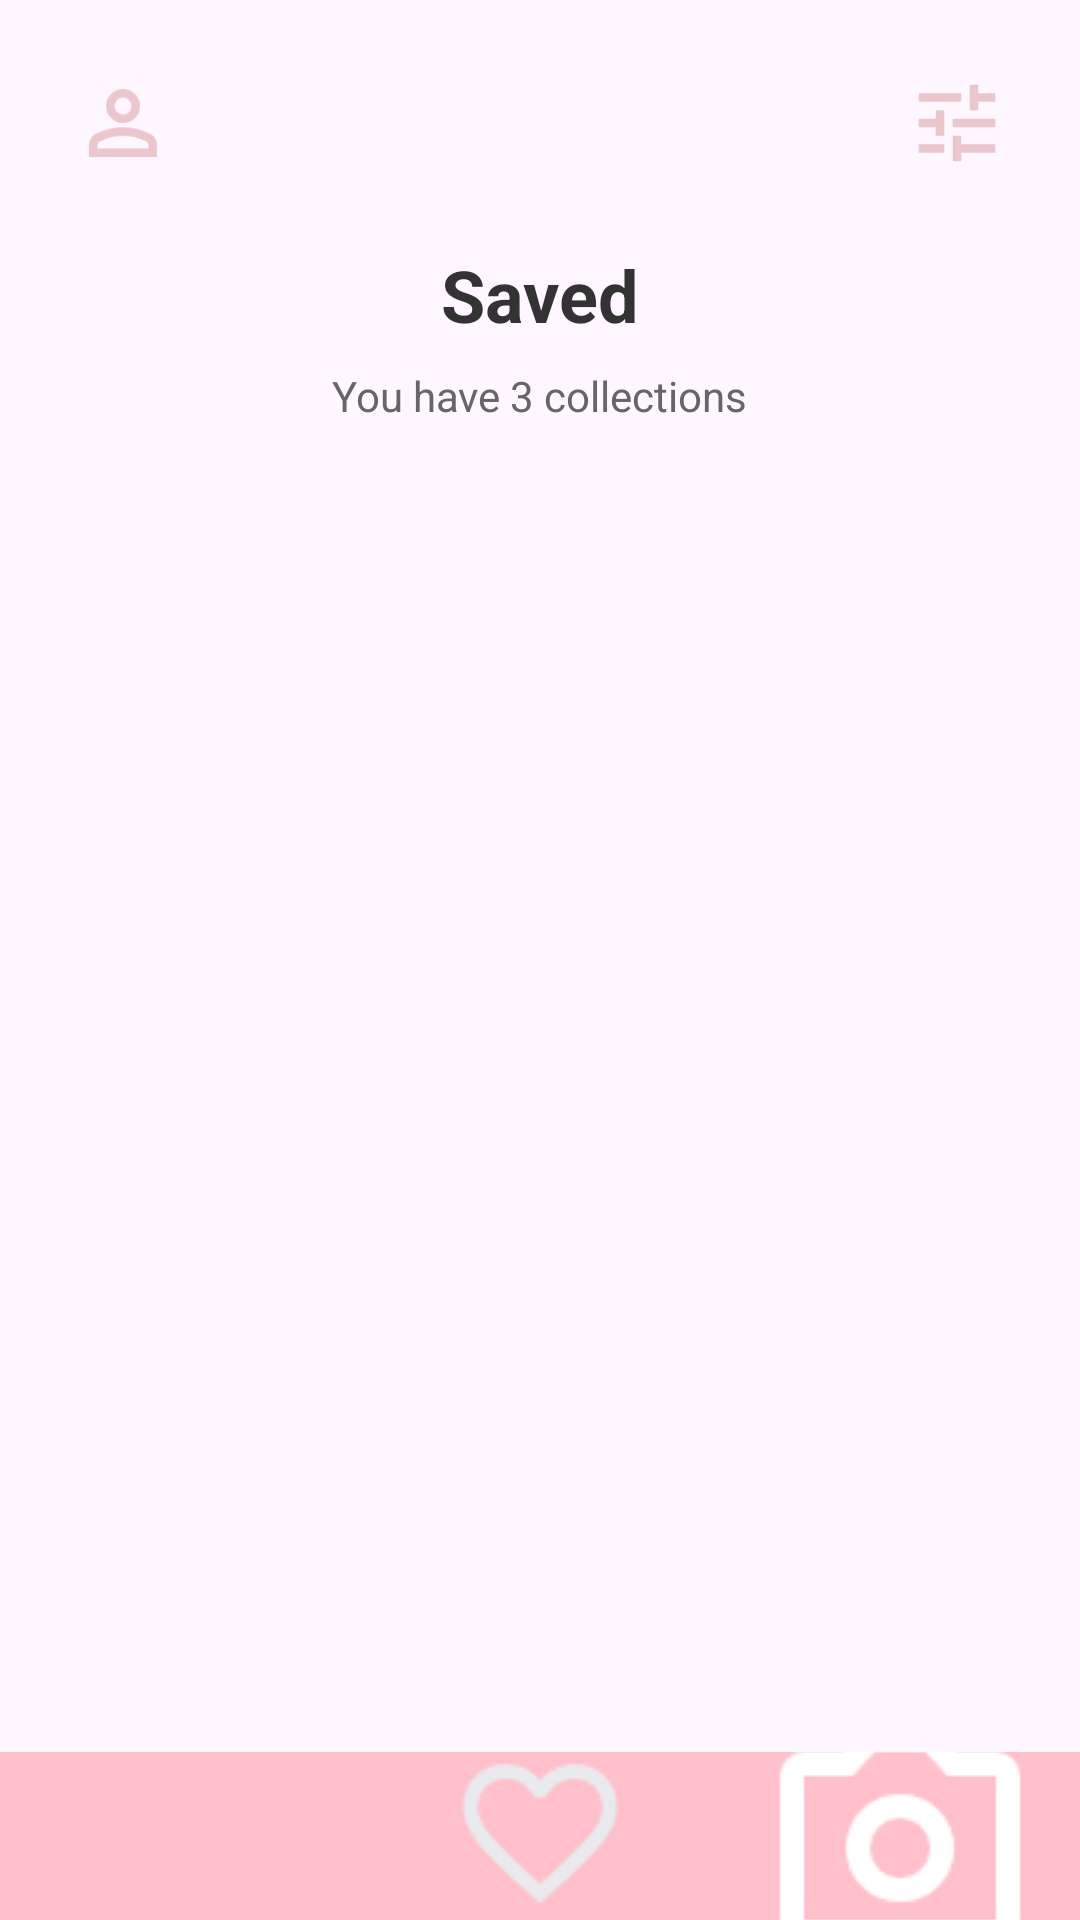

Screen size 1080px x 1920px. Icon name, then its box in pixels as [x1, y1, x2, y2]:
Filter Icon: [919, 85, 995, 161]
Profile Icon: [89, 89, 157, 157]
Saved Button: [464, 1764, 616, 1902]
